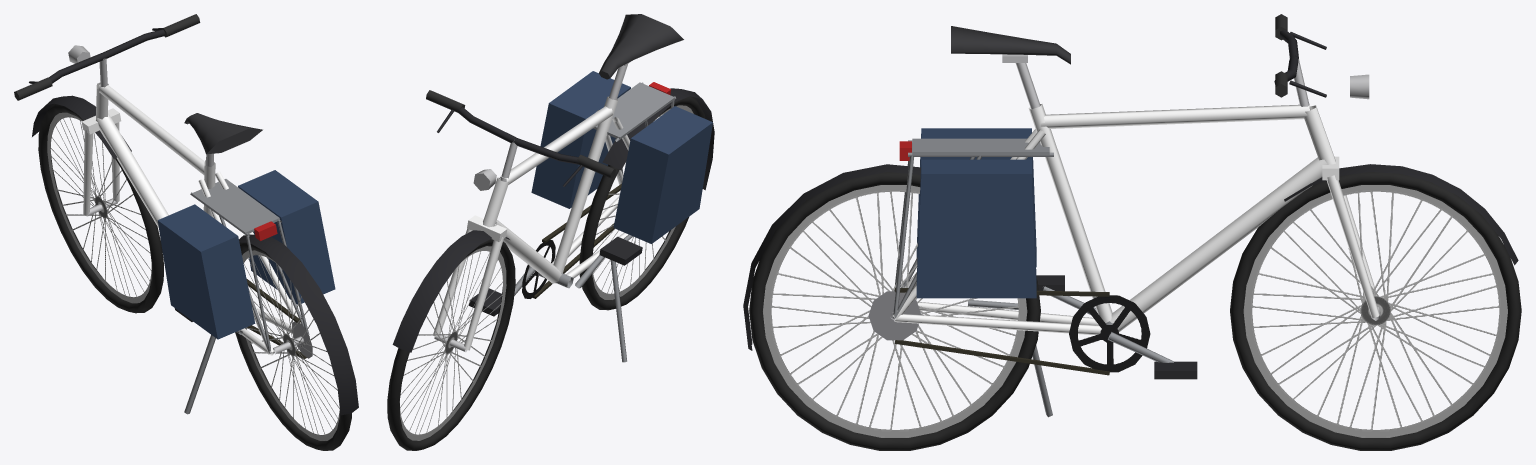
Rendered from trekking_lean.glb.
3 renders of one model, left to right at view 1: azimuth 30°, elevation 25°; view 2: azimuth 150°, elevation 25°; view 3: azimuth 270°, elevation 25°, orthographic. The views are drawn at different scales.
Parts seen in each view (by area): view 1: bike; view 2: bike; view 3: bike.
Part boxes in pixels (<box>): bike: <box>14,14,358,450</box>; bike: <box>387,14,714,450</box>; bike: <box>743,14,1521,450</box>.
Bounding box in the file's own units: 0.6262 × 1.01 × 1.81.
1 material, 1 textured.
